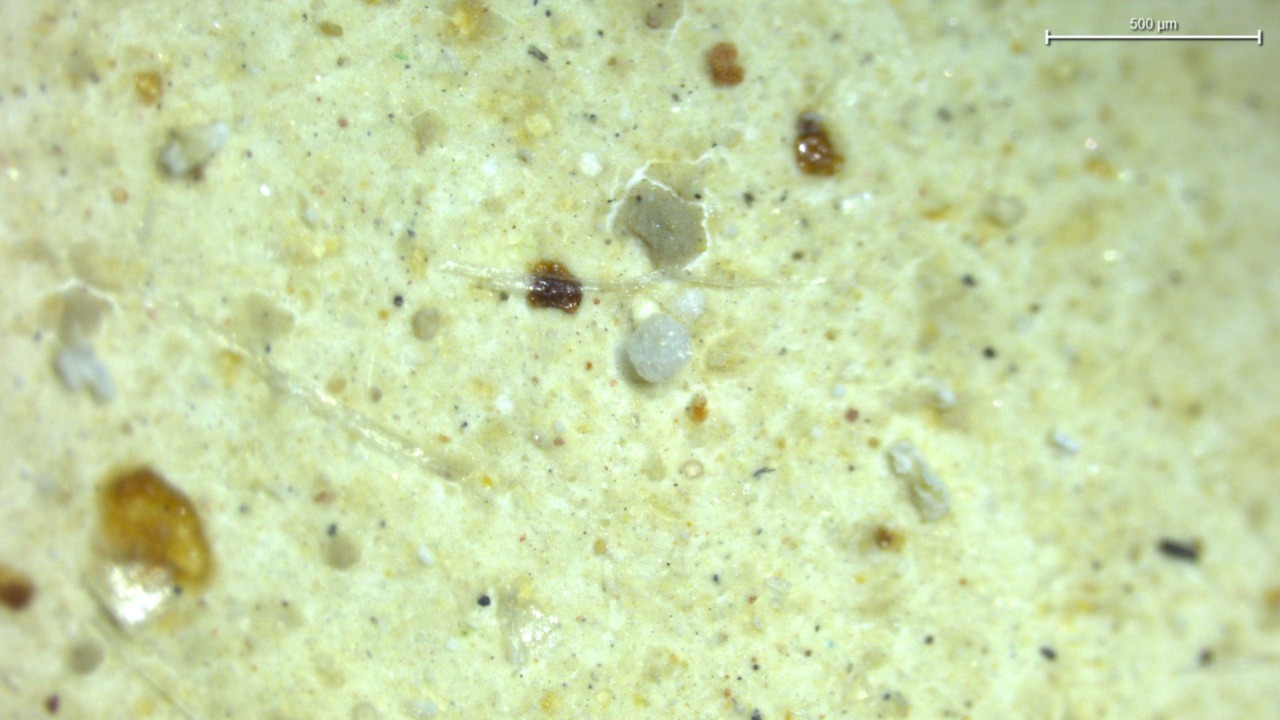microplastic_fragment: (887, 441, 949, 520), (624, 314, 691, 383)
